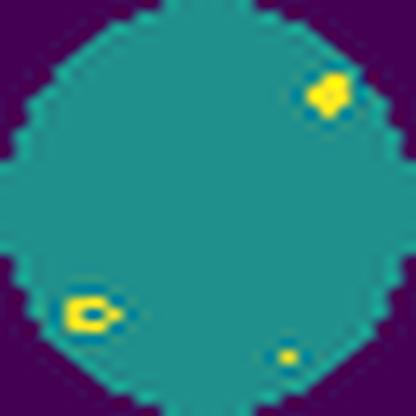Loc: (58, 295, 125, 336), (304, 72, 351, 121)
